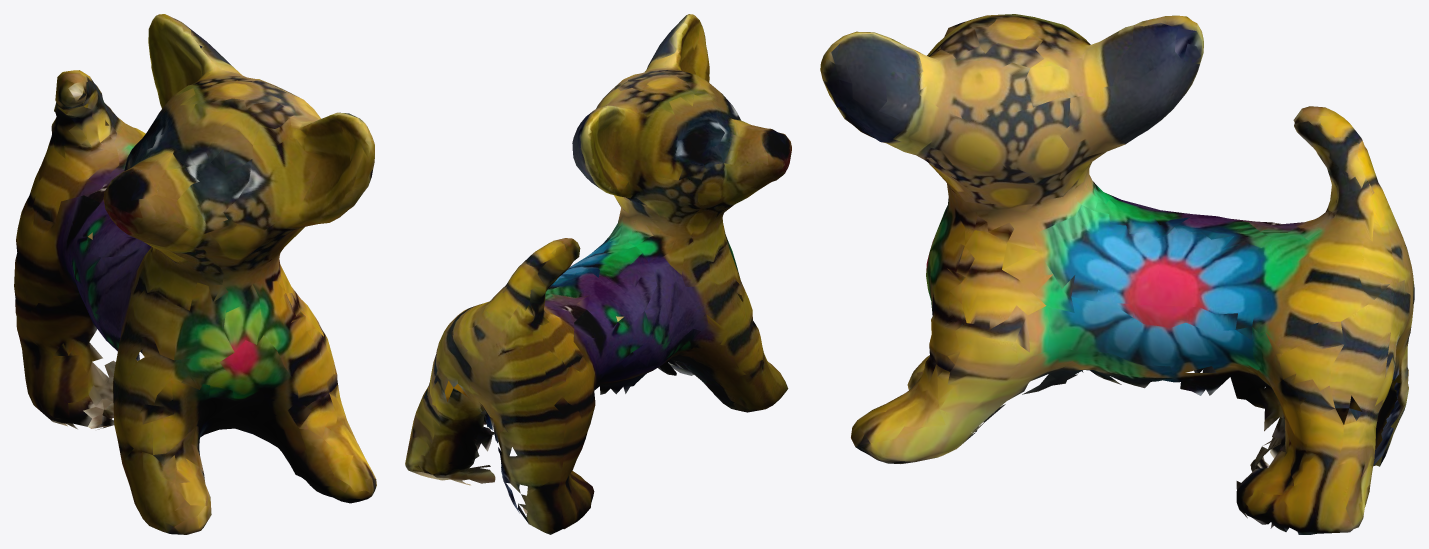
File: perrito.obj
The picture shows the model from 3 angles, left to right: view 1: azimuth 30°, elevation 25°; view 2: azimuth 150°, elevation 25°; view 3: azimuth 270°, elevation 25°; orthographic projection. The views are drawn at different scales.
Parts seen in each view (by area): view 1: perrito; view 2: perrito; view 3: perrito.
Part boxes in pixels (x1=…): perrito: x1=14, y1=14, x2=376, y2=534; perrito: x1=405, y1=14, x2=791, y2=534; perrito: x1=820, y1=14, x2=1414, y2=534.
Size of the model in its own units: 0.1544 by 0.2223 by 0.2501.
